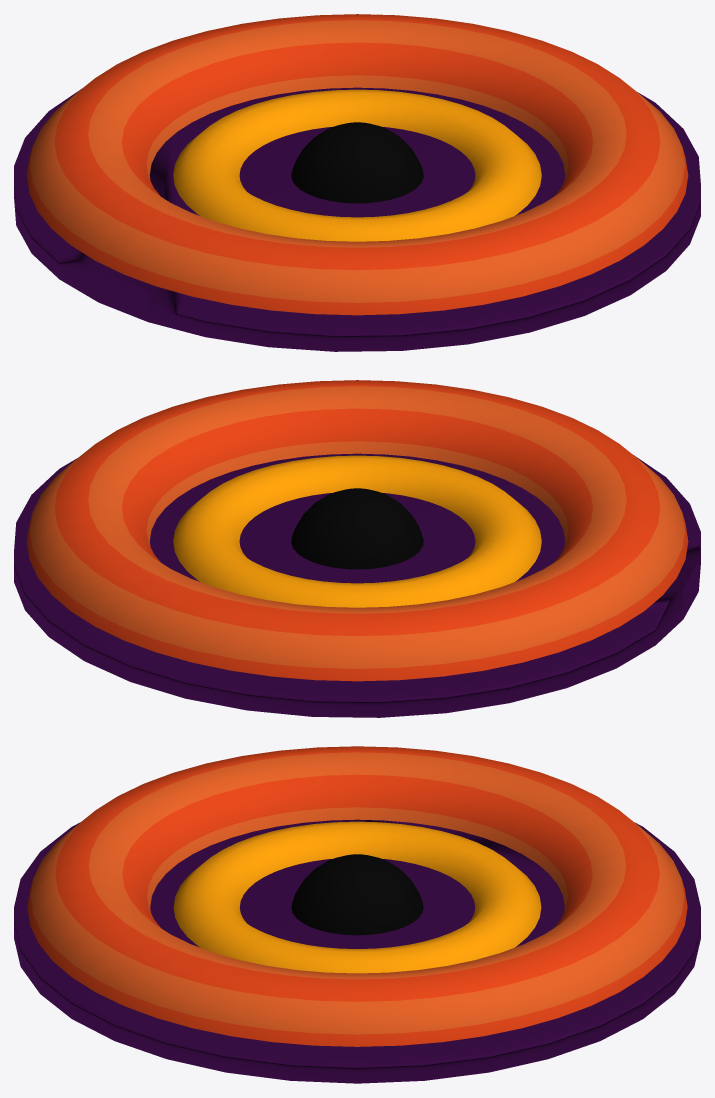
Rendered from Center (1).fbx.
3 views of the same model, one above another, from view 1: azimuth 30°, elevation 25°; view 2: azimuth 150°, elevation 25°; view 3: azimuth 270°, elevation 25° (orthographic).
Parts seen in each view (by area): view 1: Torus, Cylinder, Torus.001, Sphere; view 2: Torus, Cylinder, Torus.001, Sphere; view 3: Torus, Cylinder, Torus.001, Sphere.
Part boxes in pixels (x1,y1,x2,y2): Torus: [26, 14, 688, 315]; Cylinder: [14, 87, 700, 351]; Torus.001: [173, 89, 541, 241]; Sphere: [291, 122, 423, 203]; Torus: [26, 380, 688, 681]; Cylinder: [14, 453, 700, 717]; Torus.001: [173, 455, 541, 607]; Sphere: [291, 488, 423, 569]; Torus: [27, 746, 687, 1046]; Cylinder: [14, 819, 700, 1083]; Torus.001: [173, 821, 541, 973]; Sphere: [291, 854, 423, 935].
Size of the model in its own units: 400 by 50 by 400.
